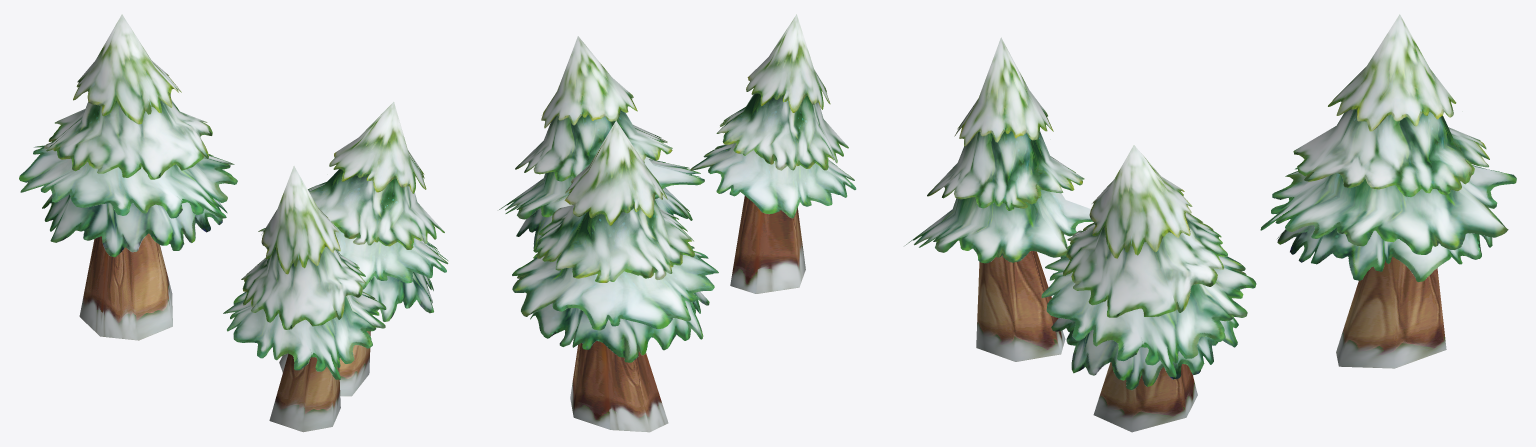
File: SM_tree_02.fbx
3 views of the same model, side by side, from view 1: azimuth 30°, elevation 25°; view 2: azimuth 150°, elevation 25°; view 3: azimuth 270°, elevation 25° (orthographic). The views are drawn at different scales.
Visible parts, largest first — view 1: SM_tree_02; view 2: SM_tree_02; view 3: SM_tree_02.
Part boxes in pixels (x1,y1,x2,y2): SM_tree_02: [19, 14, 448, 432]; SM_tree_02: [499, 14, 856, 432]; SM_tree_02: [905, 14, 1516, 432].
Size of the model in its own units: 3.19 by 3.01 by 4.86.
